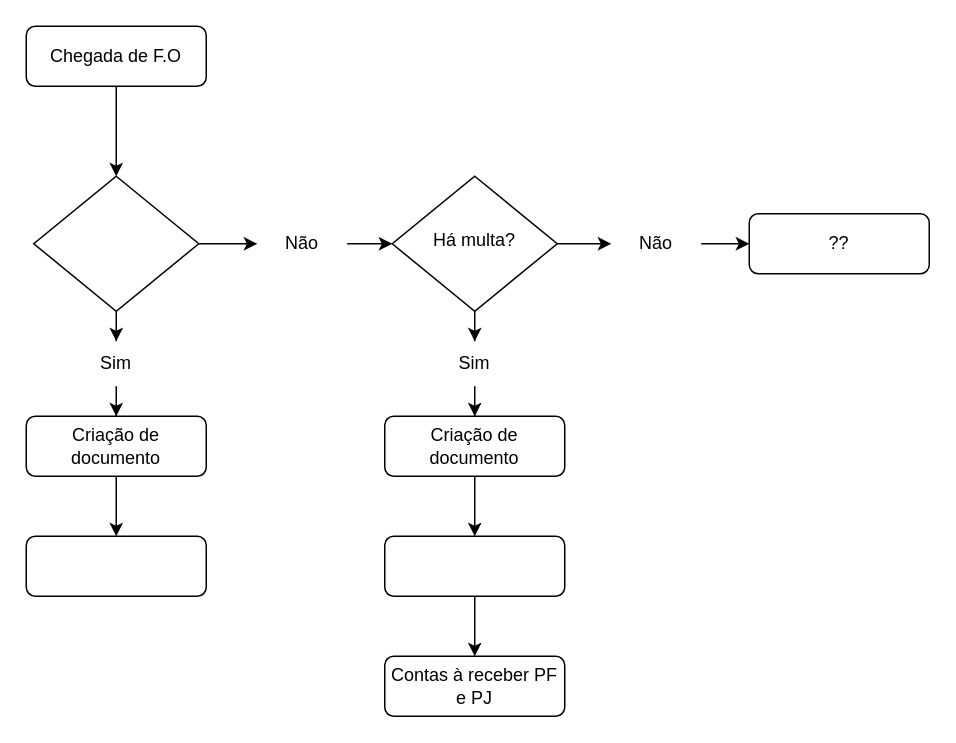
Image size: 956x743. Some labels were removed from this diagram. The shapes that lost their labels are listed below. From the top down, each one's centre as x and y in pixels, then its label:
At point (115, 243): "Há devolução?".
At point (115, 565): "Enviar ao Contas à pagar".
At point (474, 565): "Gera descontos e baixa de documento".
